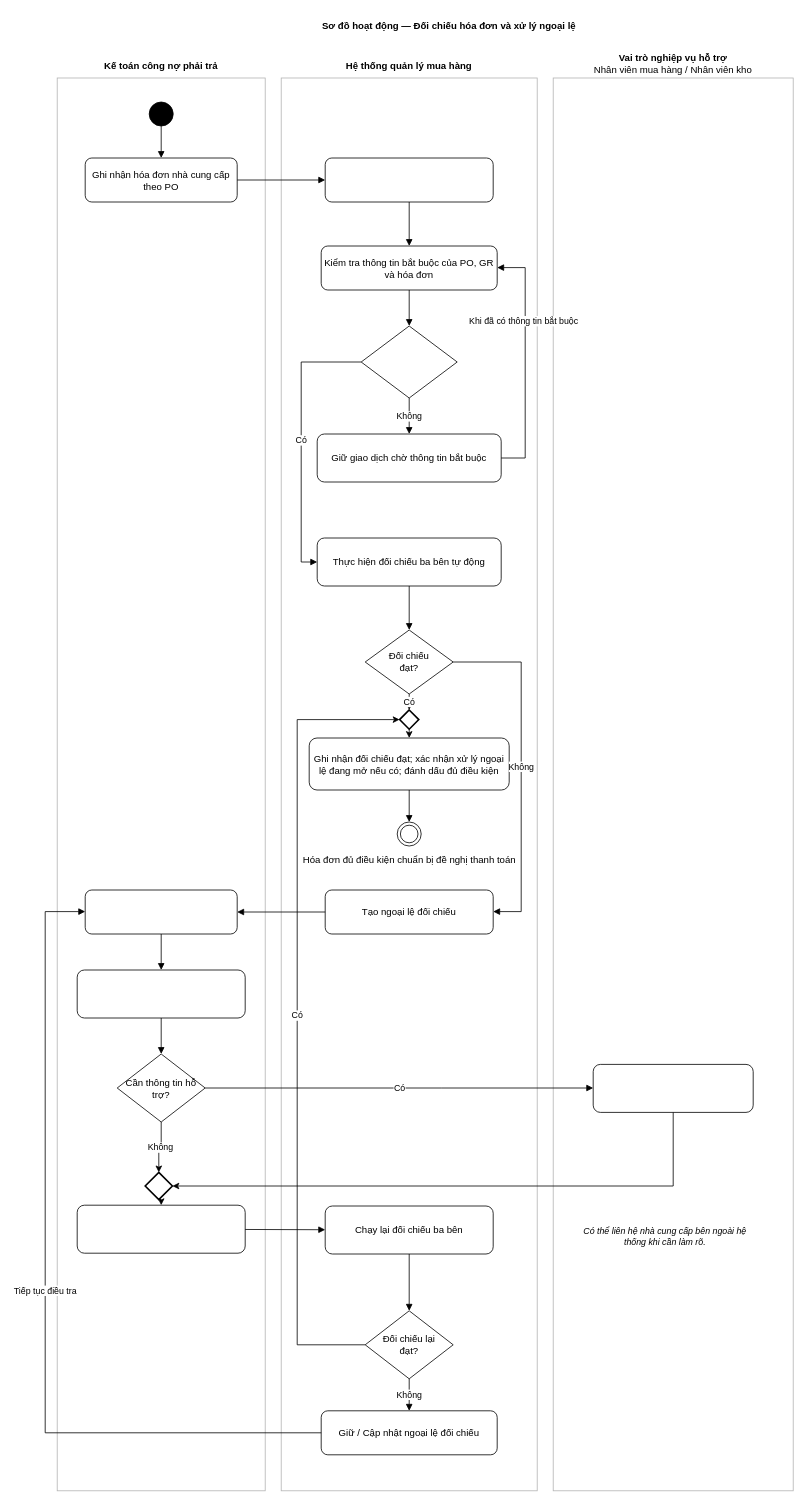
This 807x1505 diagram has some shape labels left out. Here are the shapes that lost their labels. From the top down, the box of each, then its label:
(324, 157, 493, 202): Liên kết hóa đơn với đơn đặt hàng liên quan
(360, 325, 457, 398): Đủ dữ liệu đối chiếu?
(84, 889, 237, 934): Xem xét ngoại lệ đối chiếu
(76, 969, 245, 1018): Xác định nguyên nhân và phối hợp xử lý
(592, 1064, 753, 1112): Cung cấp thông tin làm rõ / chỉnh sửa cần thiết
(76, 1204, 245, 1253): Ghi nhận thông tin chỉnh sửa
